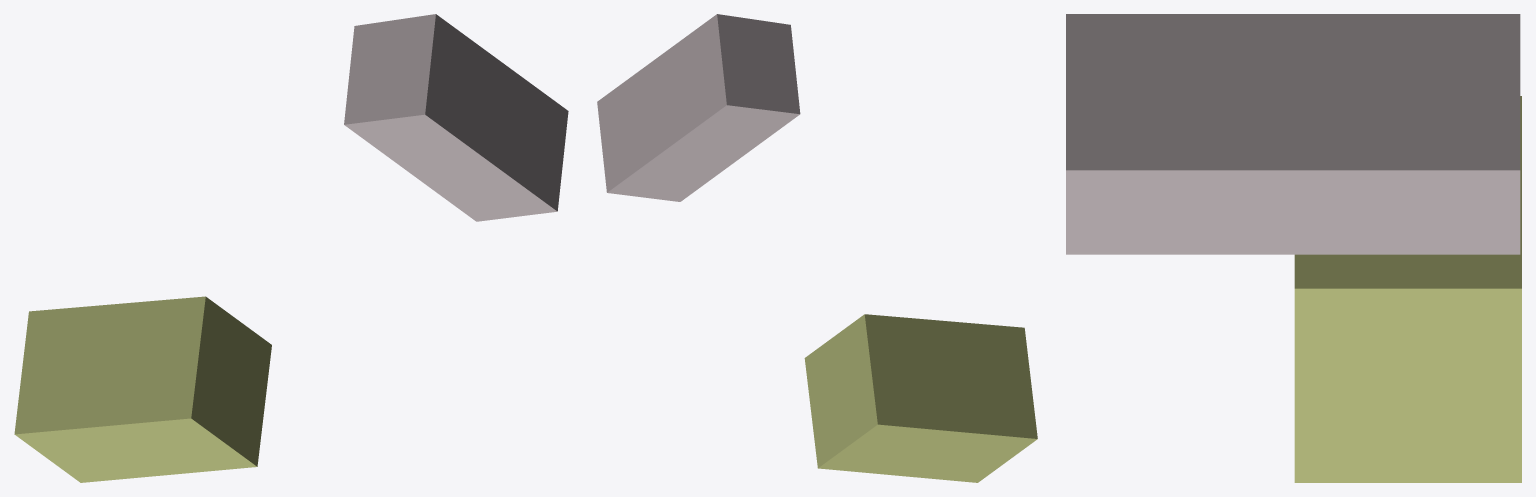
The picture shows the model from 3 angles, left to right: view 1: azimuth 30°, elevation 25°; view 2: azimuth 150°, elevation 25°; view 3: azimuth 270°, elevation 25°; orthographic projection. The views are drawn at different scales.
Visible parts, largest first — view 1: 0_2_3_2_1_2_0_0_2; view 2: 0_2_3_2_1_2_0_0_2; view 3: 0_2_3_2_1_2_0_0_2.
Boxes of the visible parts, box(x1,y1,x2,y2) form: 0_2_3_2_1_2_0_0_2: box(14, 14, 568, 482); 0_2_3_2_1_2_0_0_2: box(597, 14, 1037, 482); 0_2_3_2_1_2_0_0_2: box(1066, 14, 1521, 482).
Size of the model in its own units: 33.02 by 26.45 by 18.06.
